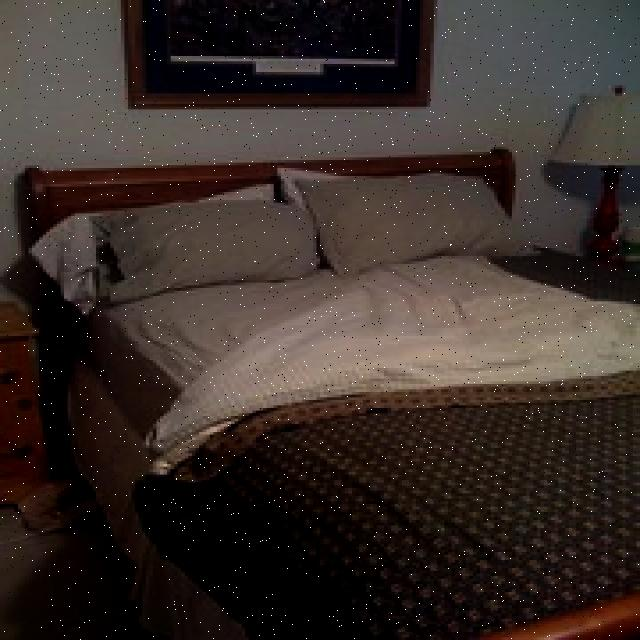bed: (32, 144, 640, 640)
